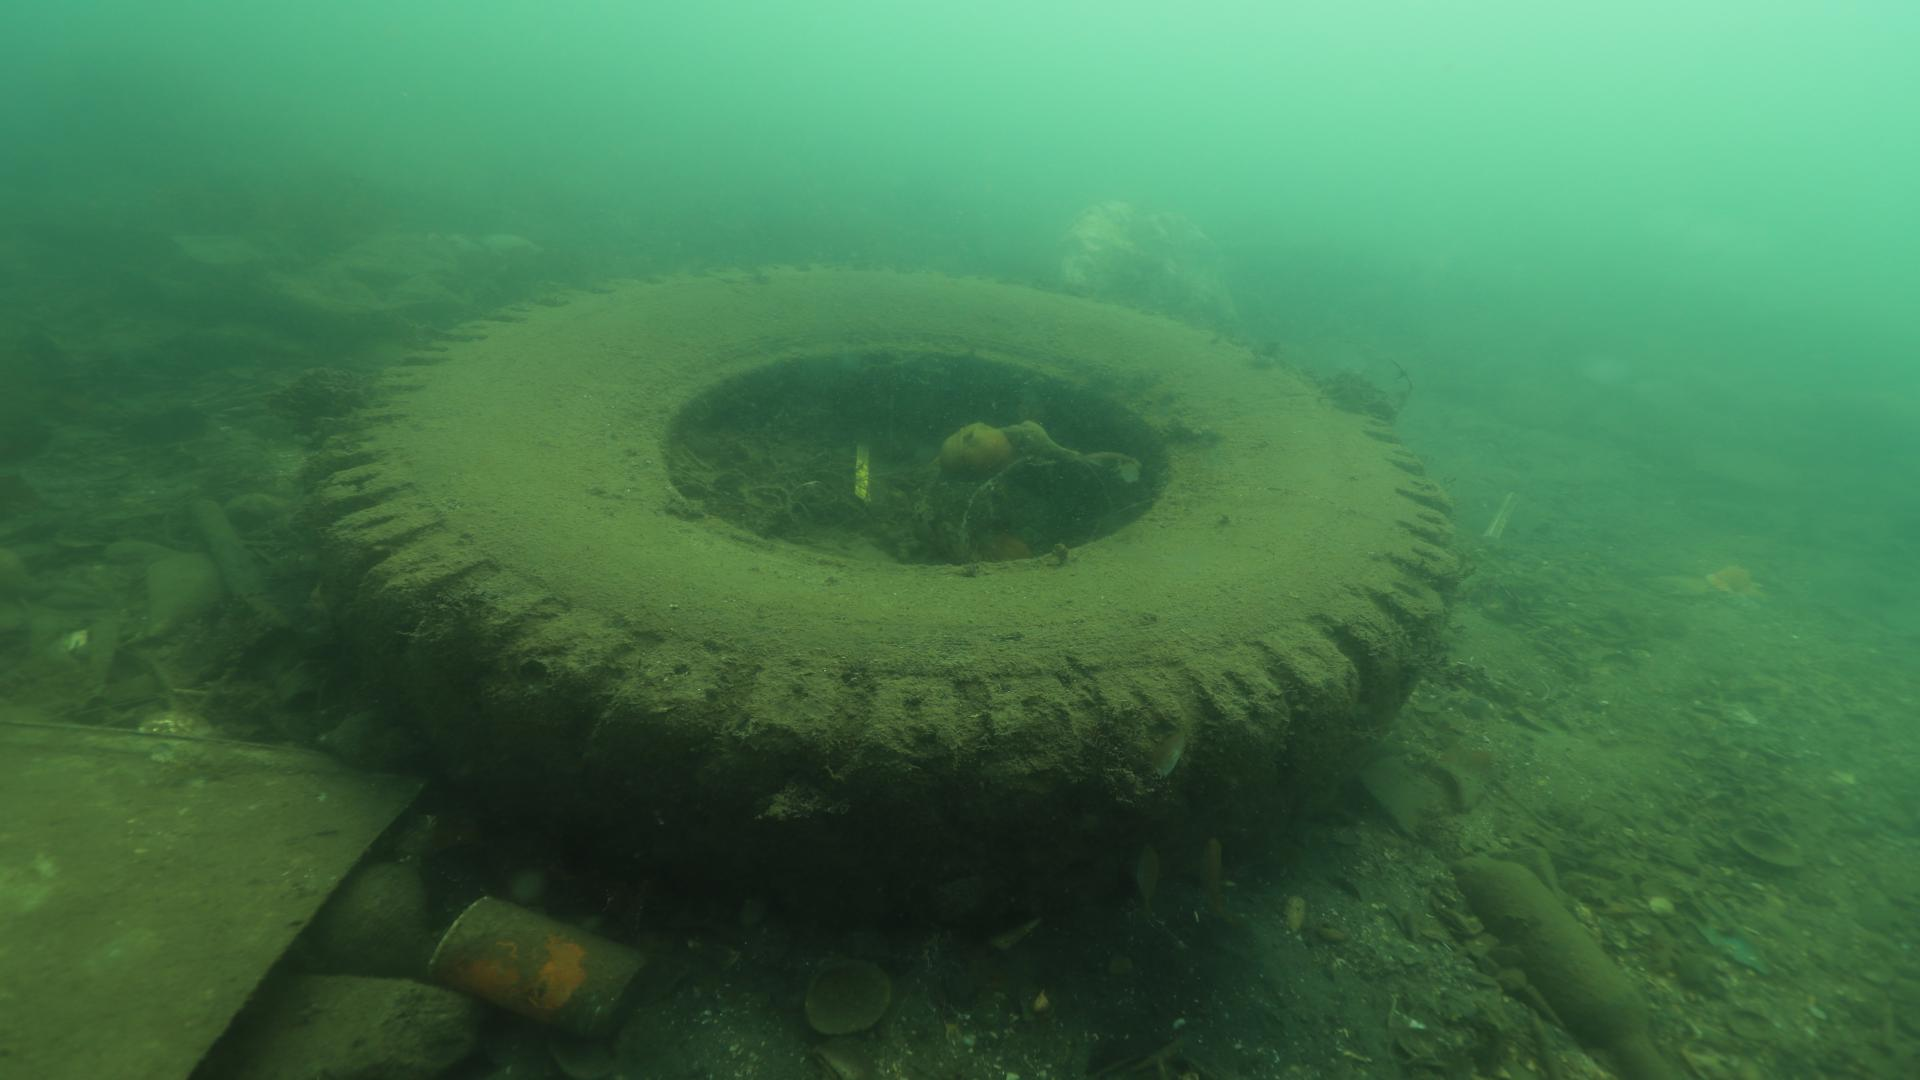tire: (313, 255, 1456, 905)
